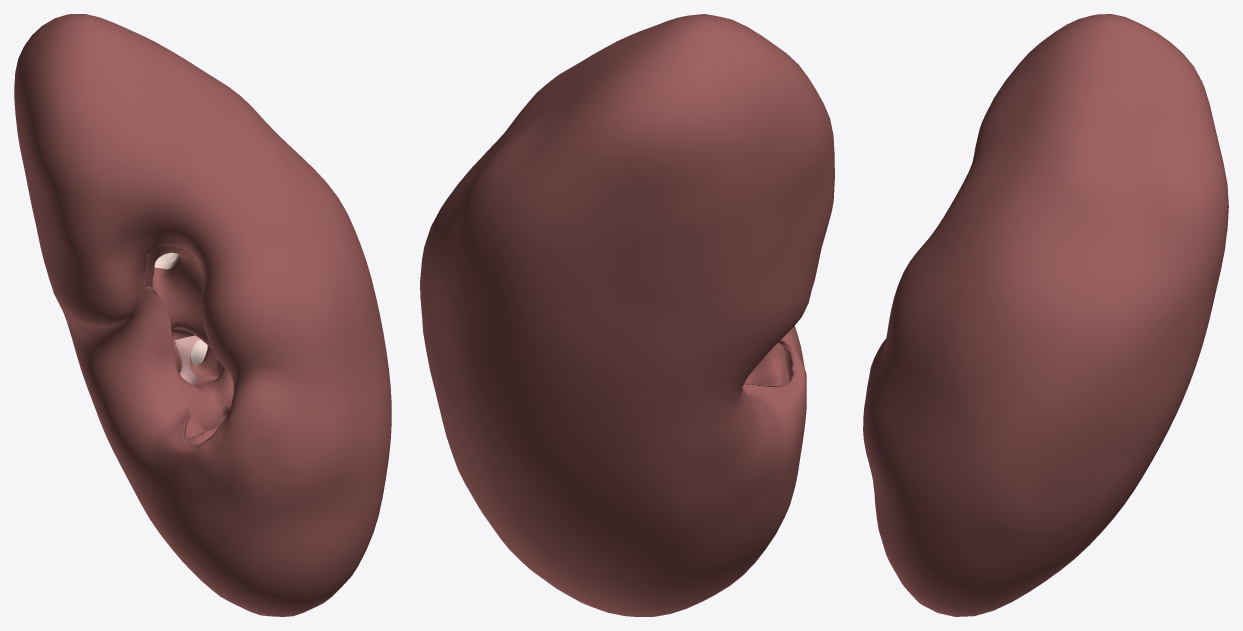
Rendered from vh_f_kidney_l-100.glb.
The picture shows the model from 3 angles, left to right: view 1: azimuth 30°, elevation 25°; view 2: azimuth 150°, elevation 25°; view 3: azimuth 270°, elevation 25°; orthographic projection. The views are drawn at different scales.
Parts seen in each view (by area): view 1: VH_F_kidney_capsule_L, VH_F_hilum_of_kidney_L, VH_F_renal_pyramid_L_g, VH_F_renal_column_L; view 2: VH_F_kidney_capsule_L, VH_F_hilum_of_kidney_L; view 3: VH_F_kidney_capsule_L.
Boxes of the visible parts, box(x1,y1,x2,y2) form: VH_F_kidney_capsule_L: box(14, 14, 391, 616); VH_F_hilum_of_kidney_L: box(144, 246, 233, 444); VH_F_renal_pyramid_L_g: box(175, 335, 201, 385); VH_F_renal_column_L: box(154, 252, 207, 364); VH_F_kidney_capsule_L: box(420, 14, 834, 616); VH_F_hilum_of_kidney_L: box(744, 342, 789, 385); VH_F_kidney_capsule_L: box(863, 14, 1228, 616).
Bounding box in the file's own units: 0.0731 × 0.1249 × 0.0776.
